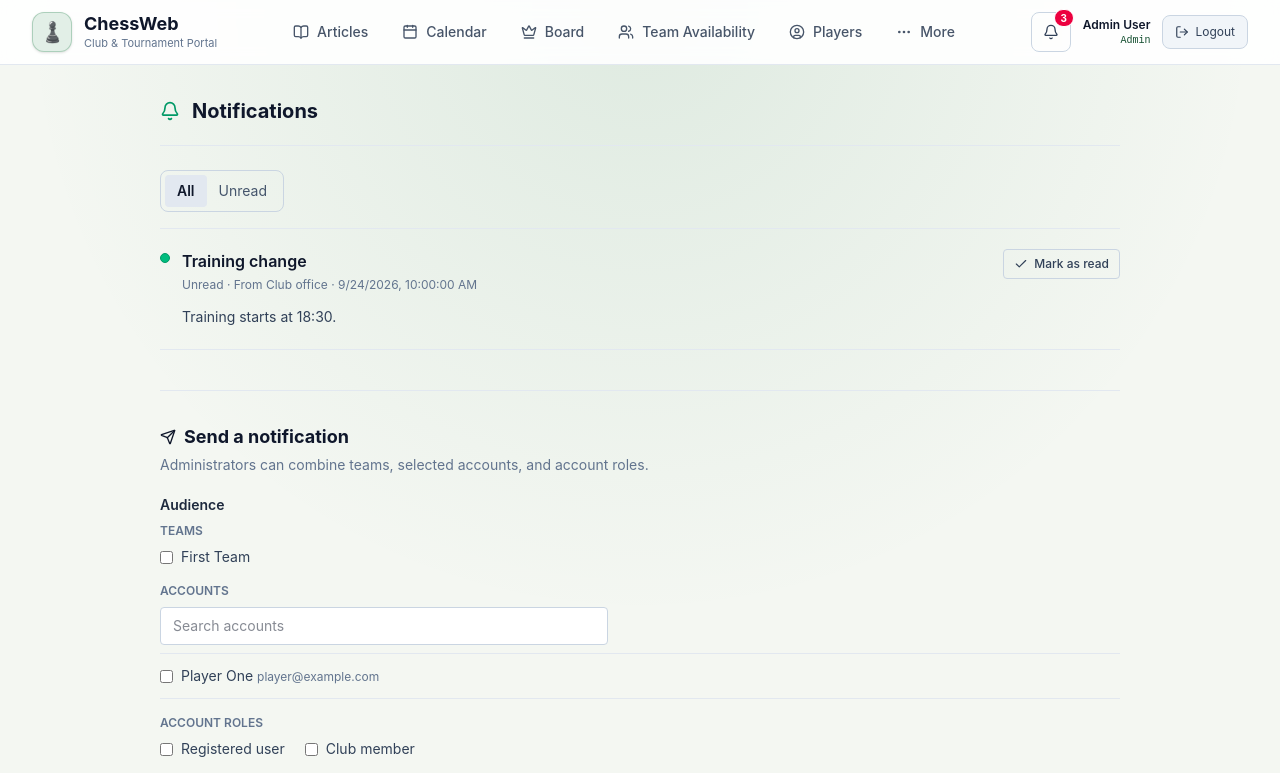
it: NotificationsView › requires an administrator review before posting a broad audience notification
Click the checkbox labelled "Club member" at (311, 749), box x1=305 y1=742 x2=318 y2=756
(page scrolled)
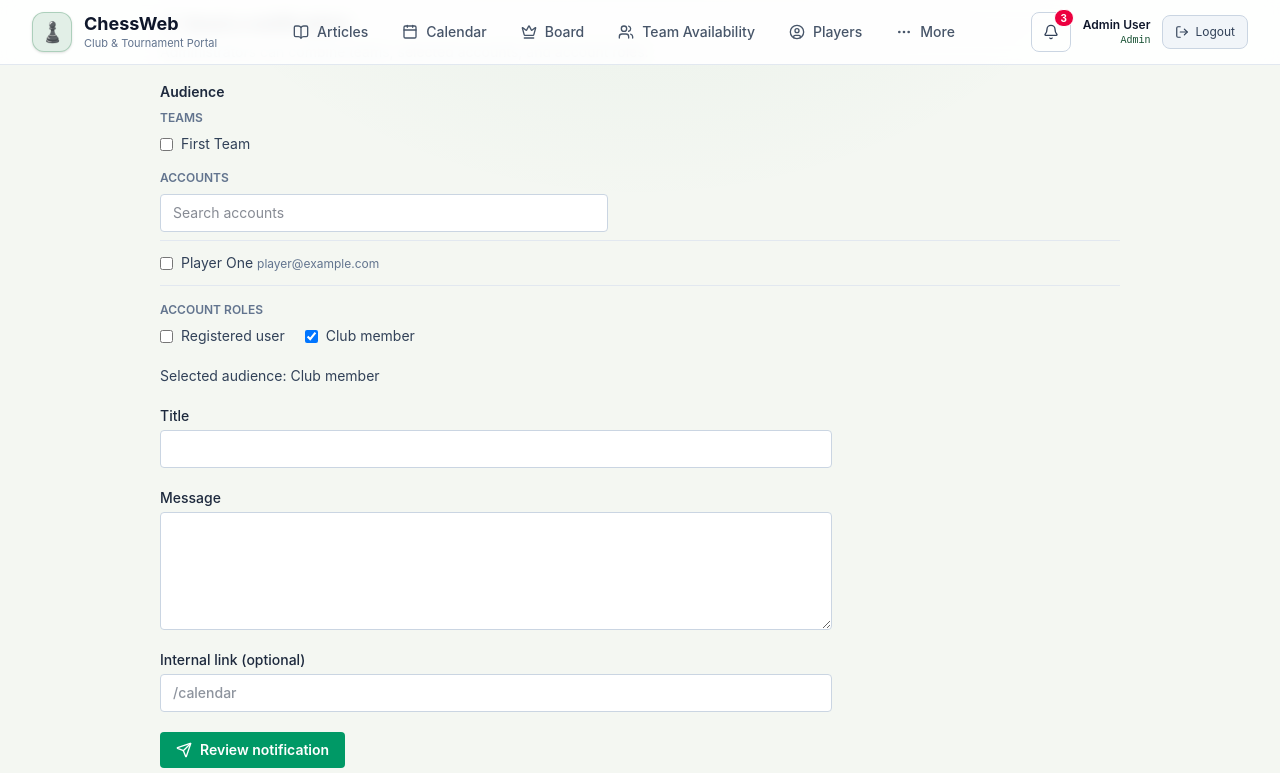
Type "Club update" into the field labelled "Title" at (496, 449), box x1=160 y1=430 x2=832 y2=468
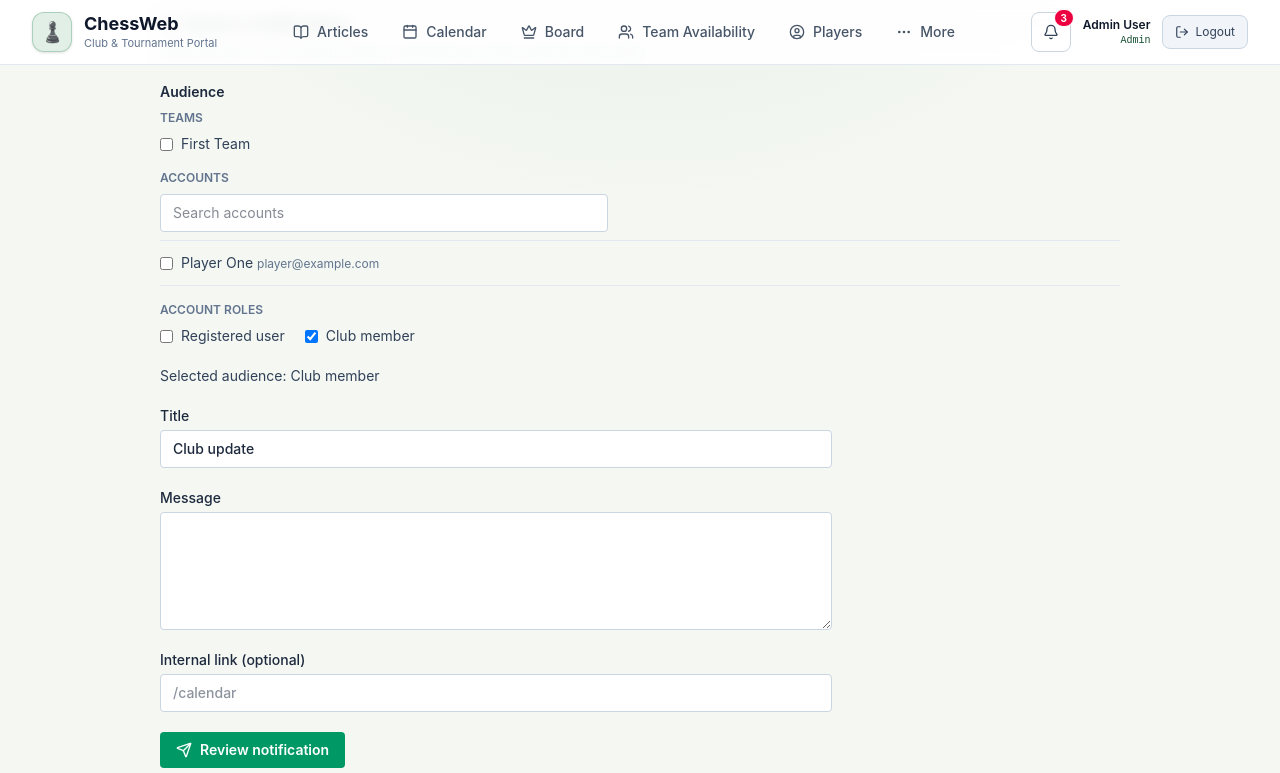
Type "Bring your boards." into the text box labelled "Message" at (496, 571), box x1=160 y1=512 x2=832 y2=630
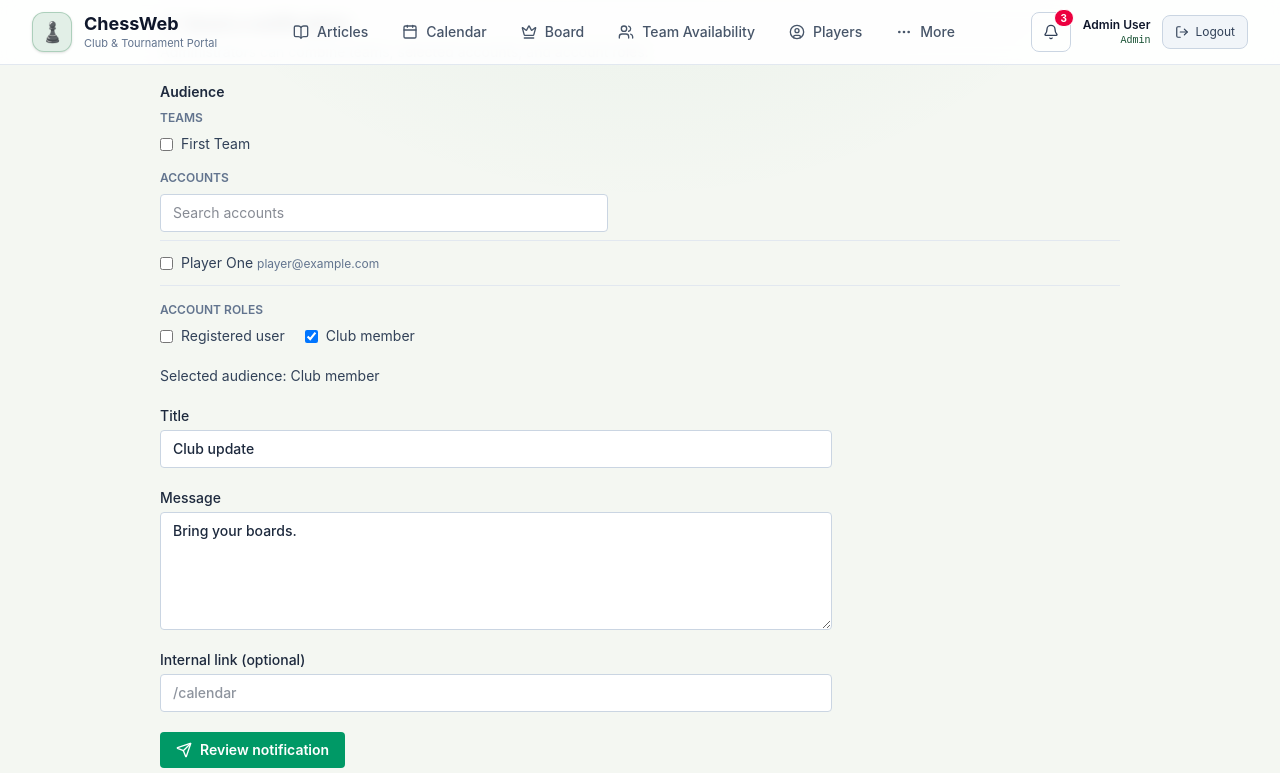
Click the button "Review notification" at (253, 750), box x1=160 y1=732 x2=345 y2=768
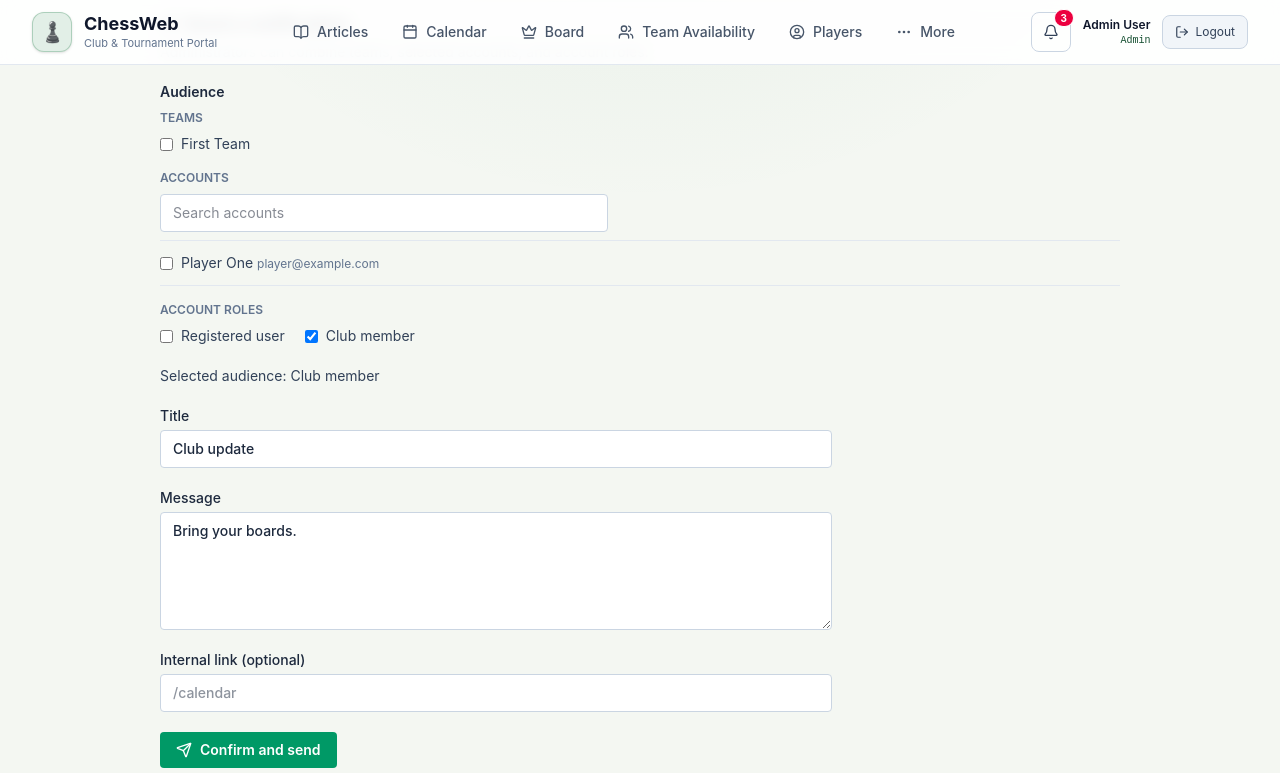
Click the button "Confirm and send" at (248, 750), box x1=160 y1=732 x2=337 y2=768
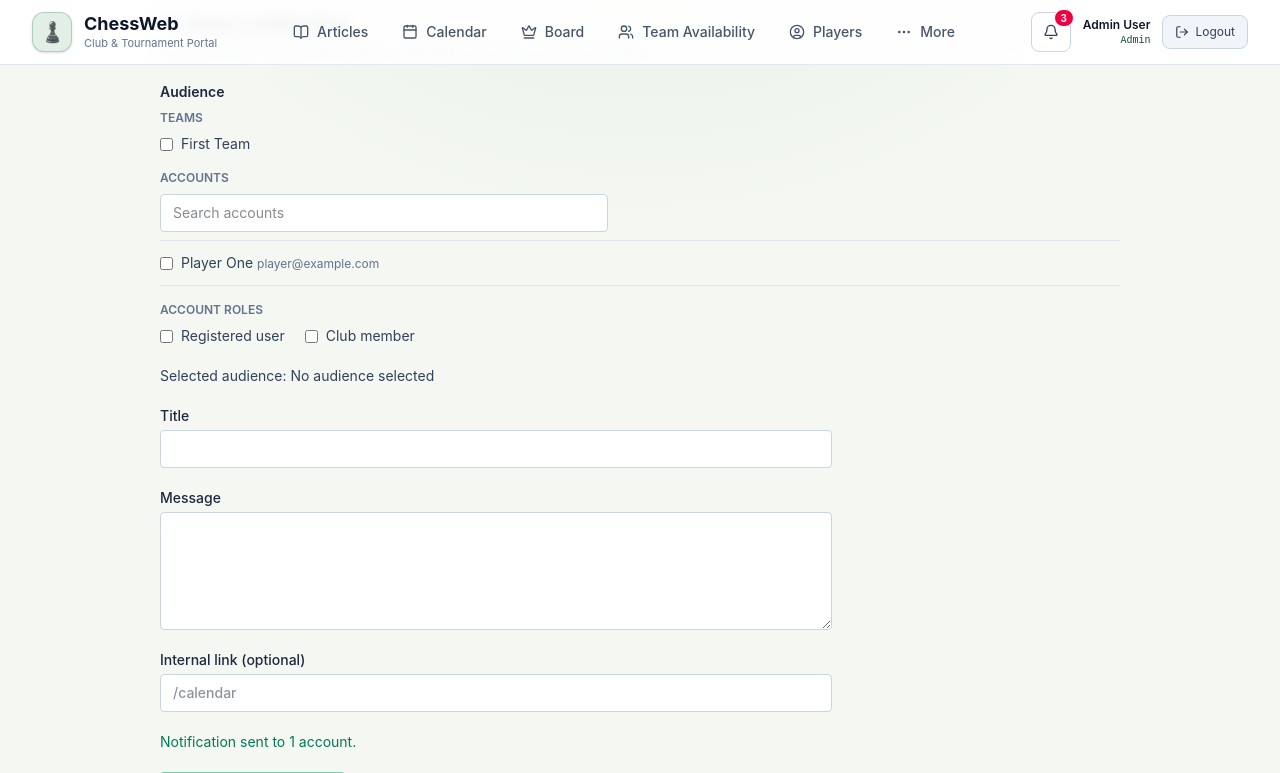
Now the message reads "Notification sent to 1 account.", box x1=160 y1=733 x2=356 y2=750
